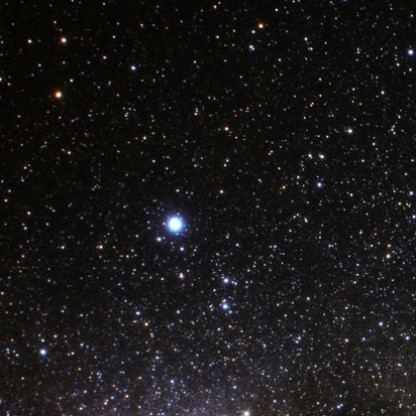Lyra: (161, 211, 188, 236), (174, 269, 188, 286), (217, 297, 230, 314), (174, 242, 188, 256), (220, 271, 231, 286), (152, 233, 162, 248)
